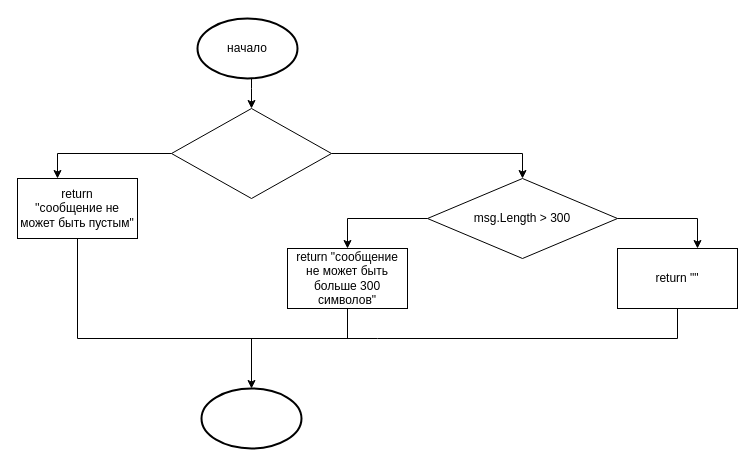
Image size: 755x466. Some labels were removed from this diagram. Here are the shapes that lost their labels. From the top down, the box of each, then its label:
(170, 108, 332, 198): msg == null || msg.Length == 0
(200, 387, 302, 449): конец
